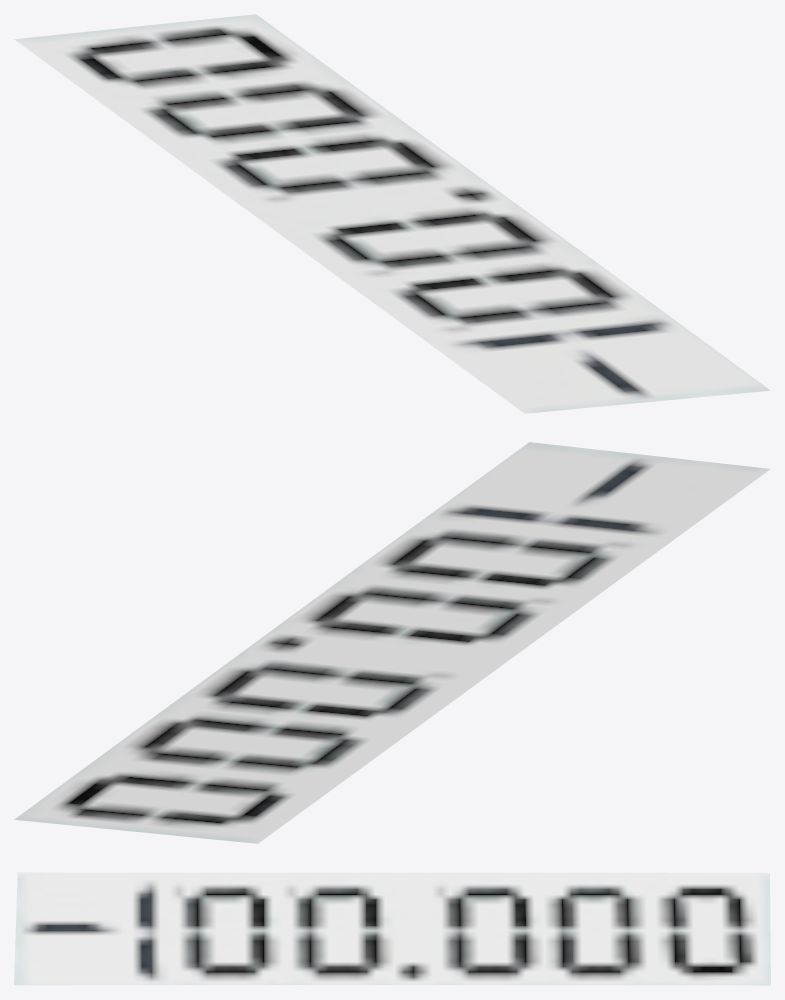
3 renders of one model, top to bottom at view 1: azimuth 30°, elevation 25°; view 2: azimuth 150°, elevation 25°; view 3: azimuth 270°, elevation 25°, orthographic. The views are drawn at different scales.
Parts seen in each view (by area): view 1: SM_100g; view 2: SM_100g; view 3: SM_100g.
Boxes of the visible parts, x1=… form: SM_100g: x1=14, y1=14, x2=770, y2=413; SM_100g: x1=14, y1=442, x2=770, y2=843; SM_100g: x1=14, y1=872, x2=770, y2=985.
Bounding box in the file's own units: 0.024 × 0.00328 × 0.0879.
